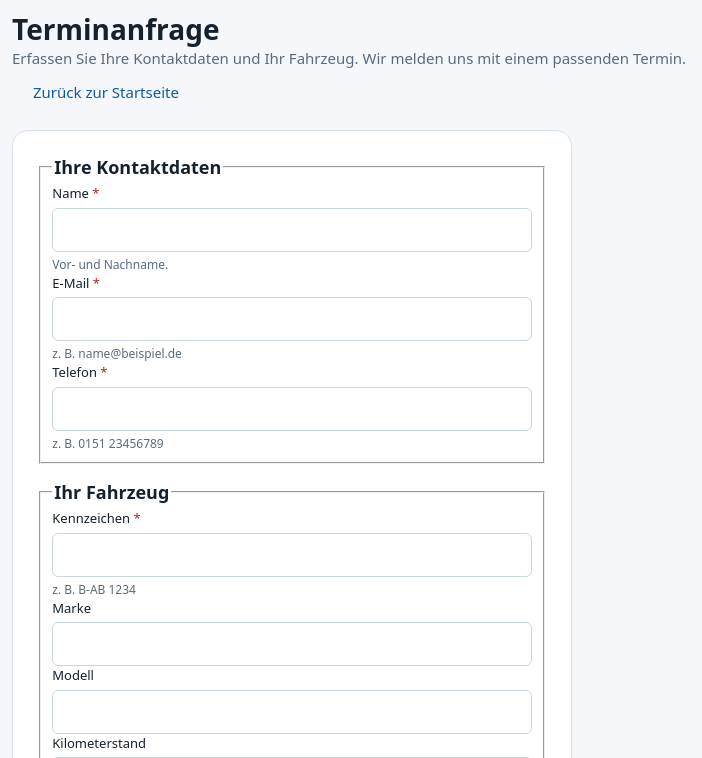
AppointmentPage › reveals a field error only after that field was typed into (AC-25)
In the field labelled "E-Mail *": (292, 319) left=52, top=297, right=532, bottom=341, type "keine-adresse"
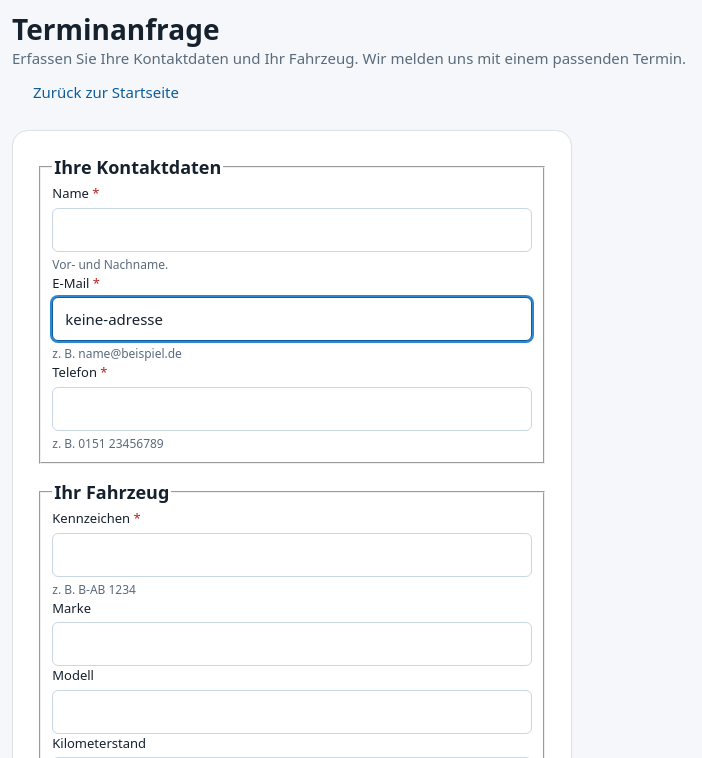
Press Tab
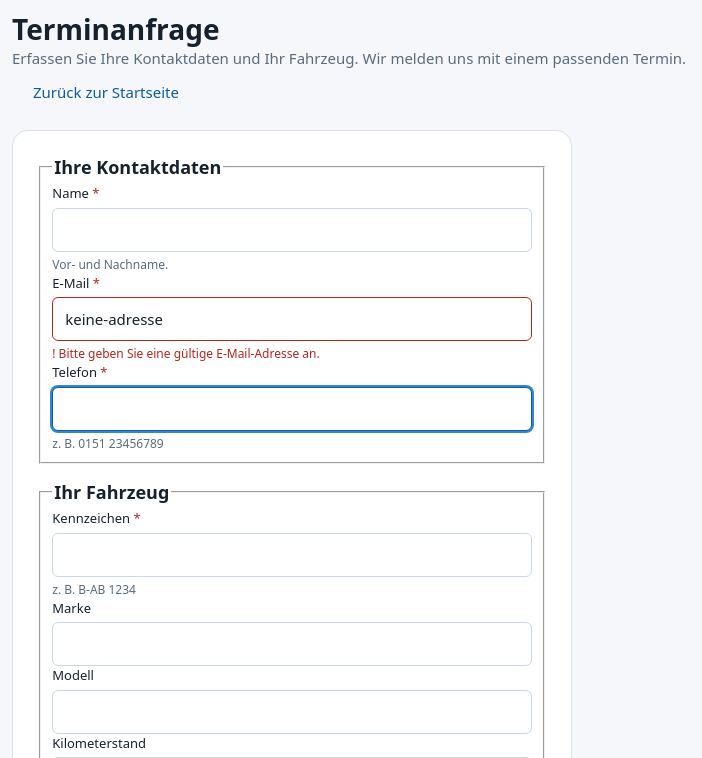
Expected: the text "! Bitte geben Sie eine gültige E-Mail-Adresse an." is shown, left=52, top=345, right=320, bottom=362
